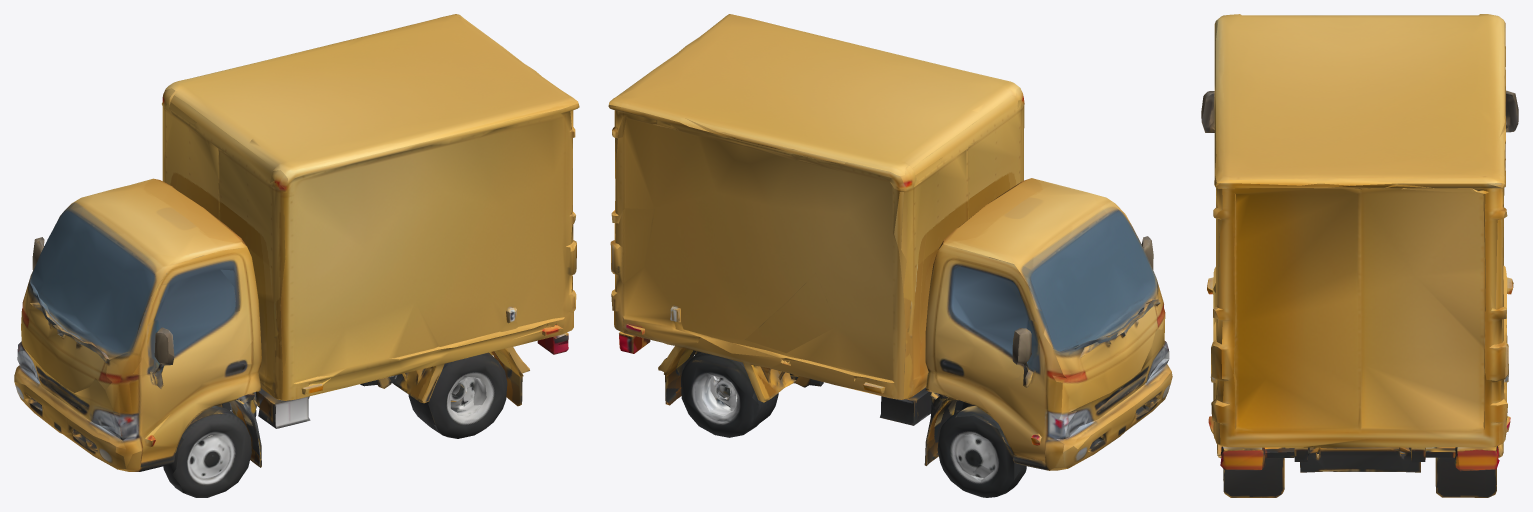
File: Truck.glb
3 views of the same model, side by side, from view 1: azimuth 30°, elevation 25°; view 2: azimuth 150°, elevation 25°; view 3: azimuth 270°, elevation 25° (orthographic). The views are drawn at different scales.
Parts seen in each view (by area): view 1: geometry_0; view 2: geometry_0; view 3: geometry_0.
Part boxes in pixels (x1,y1,x2,y2): geometry_0: (14,14,579,497); geometry_0: (608,14,1172,497); geometry_0: (1201,14,1518,497).
Size of the model in its own units: 6.2 by 4.1 by 3.15.
Materials: 1 (1 with a texture image).
